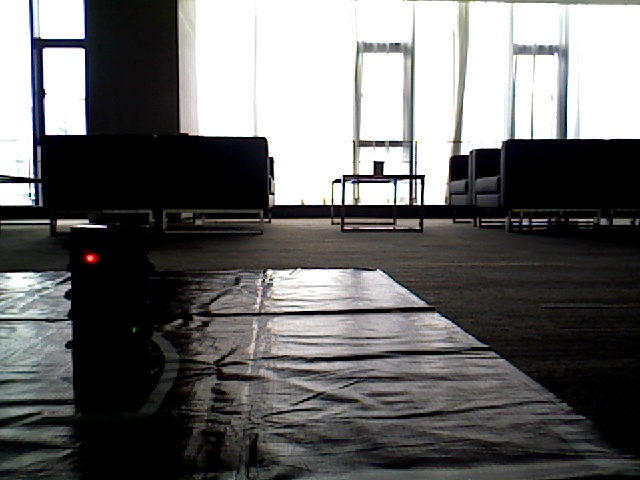red: (72, 226, 119, 351)
